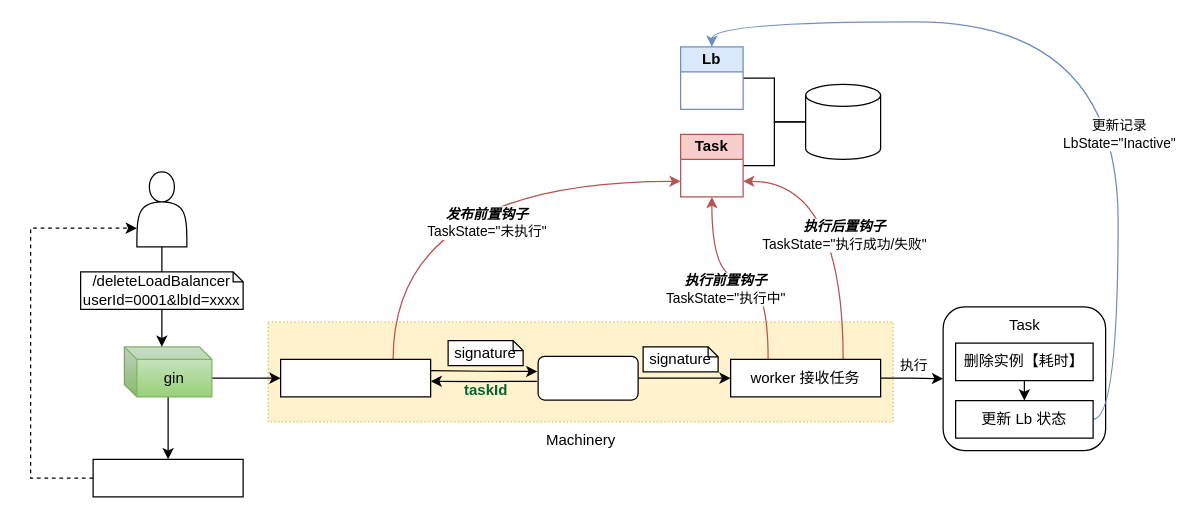
The diagram is 1196 pixels wide and 519 high, and some of its shapes have lost their labels. Here are the shapes that lost their labels. From the top down, the centre of each, then its label:
point (842, 121): MySQL
point (355, 377): 1. server发送任务
point (587, 377): broker
point (167, 477): 2. 返回 taskId
